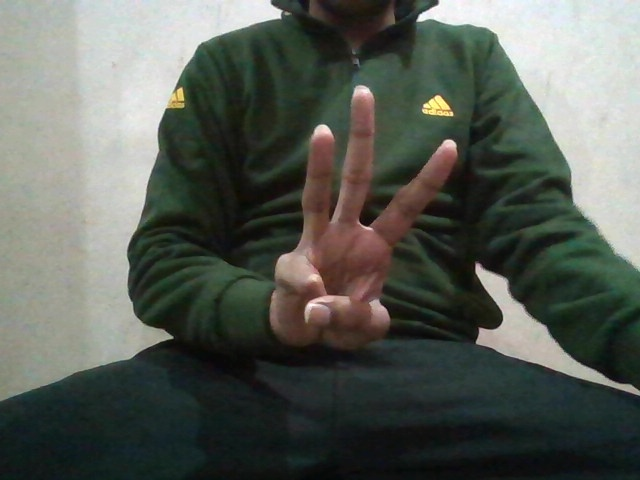W: (272, 85, 461, 353)
